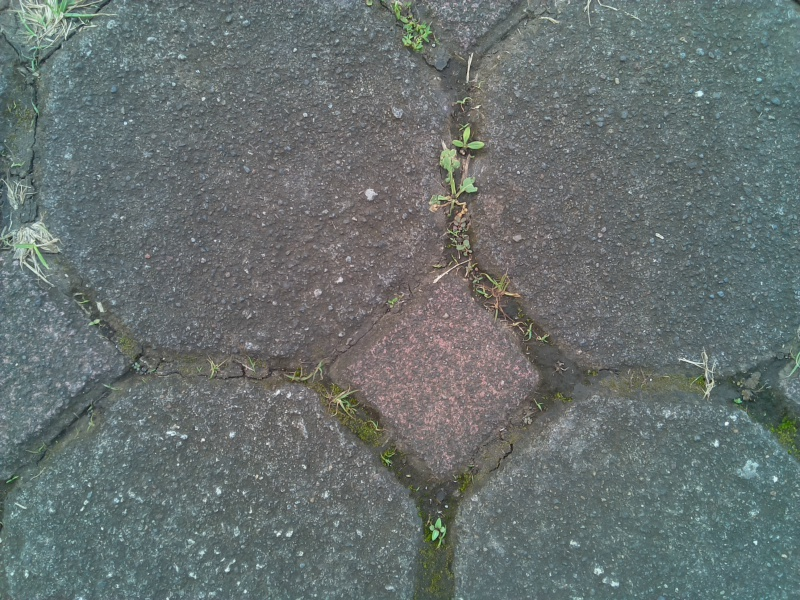Weed: (7, 1, 88, 57), (426, 144, 483, 210), (1, 222, 70, 269), (391, 3, 436, 53), (438, 221, 484, 260), (479, 270, 522, 308), (419, 512, 457, 554), (321, 384, 362, 420), (690, 358, 722, 403), (1, 173, 38, 210), (448, 124, 489, 156), (379, 294, 410, 322), (200, 353, 227, 385), (238, 353, 265, 382), (518, 319, 541, 347)
